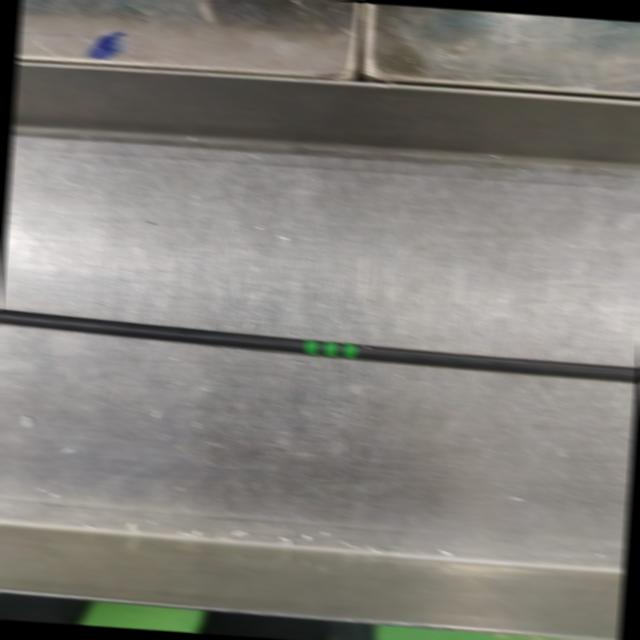green: (304, 339, 357, 358)
